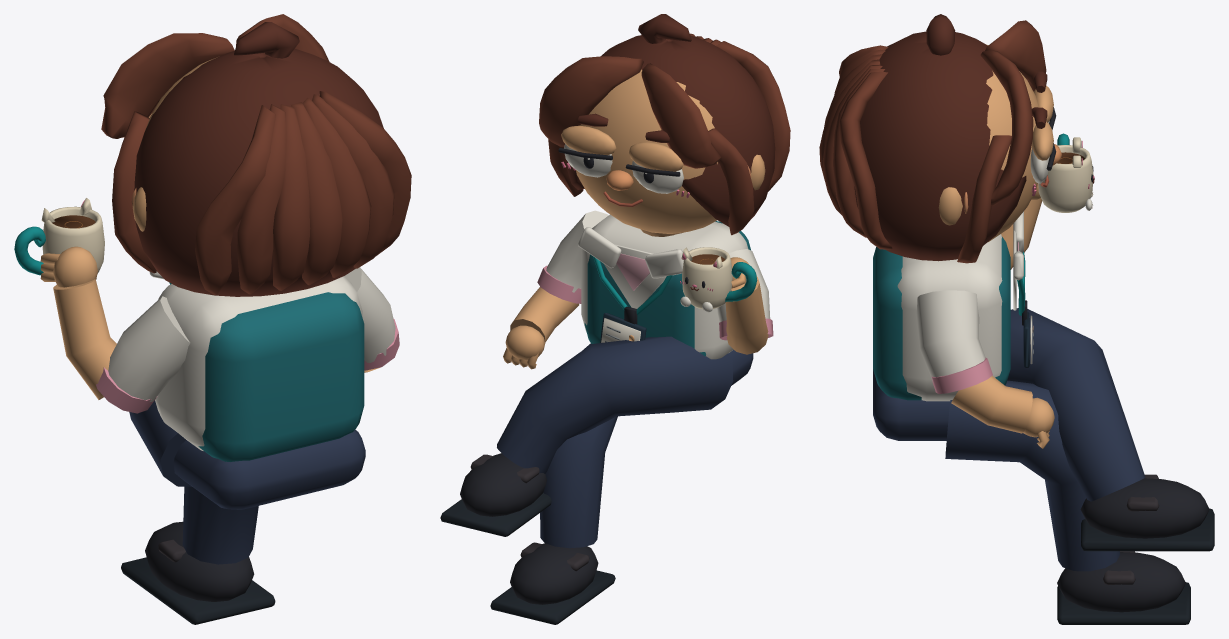
The model's file is colleague.glb.
3 renders of one model, left to right at view 1: azimuth 30°, elevation 25°; view 2: azimuth 150°, elevation 25°; view 3: azimuth 270°, elevation 25°, orthographic. The views are drawn at different scales.
Visible parts, largest first — view 1: Head_Geometry, Body_Geometry, ArmMug_Geometry; view 2: Body_Geometry, Head_Geometry, ArmMug_Geometry, FaceNeutral_Geometry; view 3: Body_Geometry, Head_Geometry, ArmMug_Geometry, FaceNeutral_Geometry.
Boxes of the visible parts, x1,y1,x2,y2 form: Head_Geometry: (101,14,411,296); Body_Geometry: (121,267,399,624); ArmMug_Geometry: (14,198,190,413); Body_Geometry: (440,210,753,624); Head_Geometry: (539,14,790,236); ArmMug_Geometry: (680,247,773,354); FaceNeutral_Geometry: (558,113,683,206); Body_Geometry: (873,211,1214,624); Head_Geometry: (819,14,1061,263); ArmMug_Geometry: (1001,133,1094,269); FaceNeutral_Geometry: (1031,71,1056,187).
Bounding box in the file's own units: 1.55 × 2.97 × 1.84.
